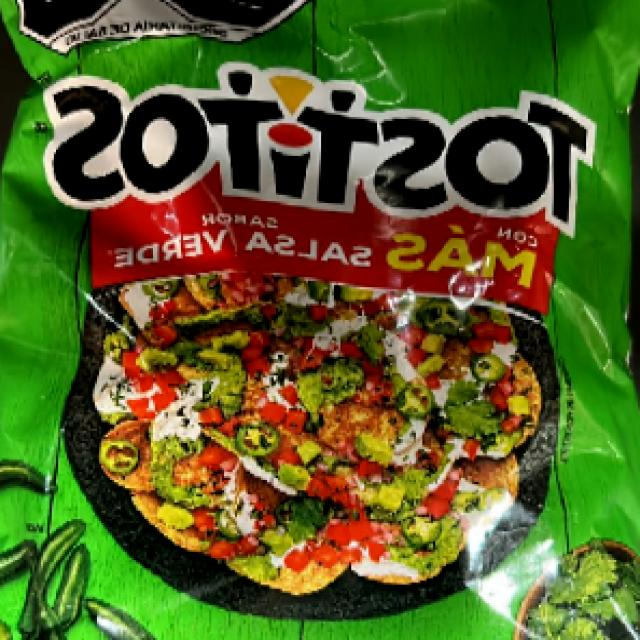tostitos: (13, 12, 640, 638)
